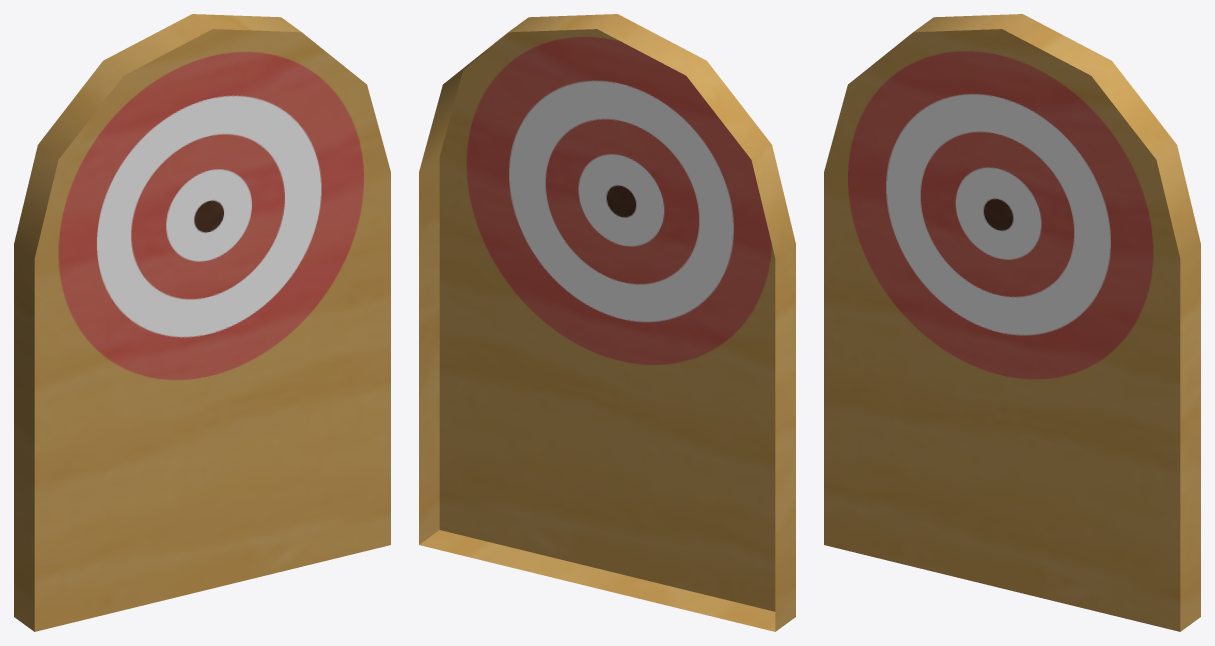
File: Target.fbx
3 renders of one model, left to right at view 1: azimuth 30°, elevation 25°; view 2: azimuth 150°, elevation 25°; view 3: azimuth 330°, elevation 25°, orthographic.
Visible parts, largest first — view 1: Target; view 2: Target; view 3: Target.
Part boxes in pixels (box(x1,y1,x2,y2)): Target: box(14, 14, 390, 631); Target: box(419, 14, 795, 631); Target: box(824, 14, 1200, 631).
Bounding box in the file's own units: 100 × 150 × 10.
